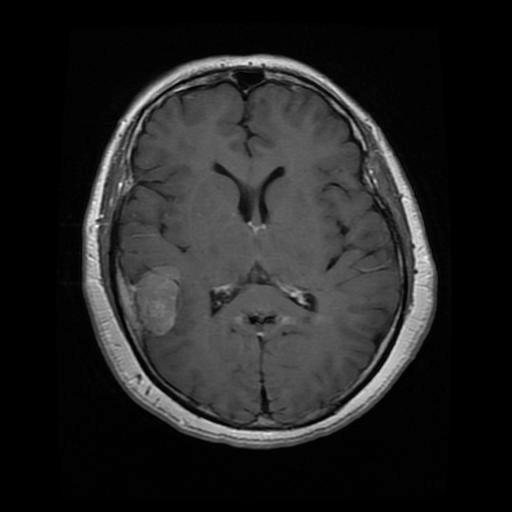Tumour-Meningioma: (111, 254, 200, 366)
